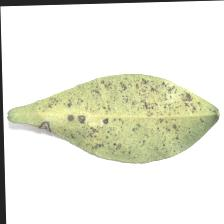canker: (71, 77, 170, 158)
